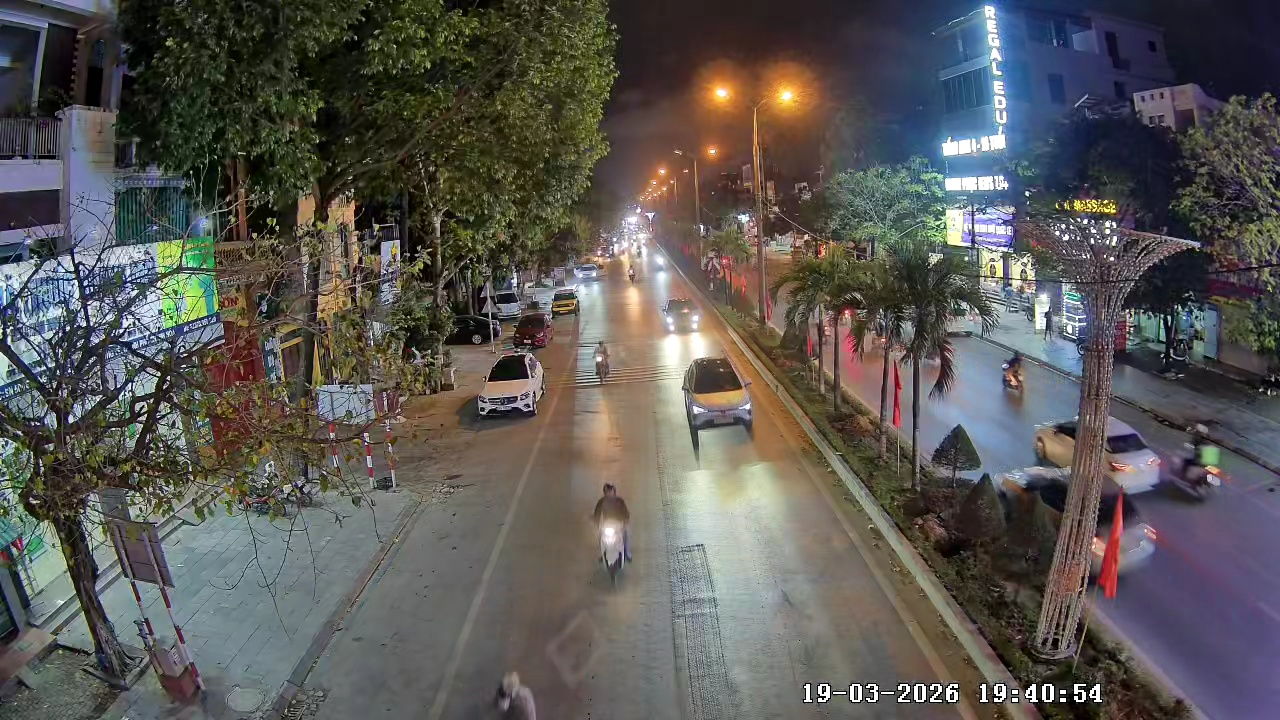car: (681, 353, 757, 439), (476, 350, 547, 418), (659, 296, 707, 336), (512, 308, 551, 349), (551, 284, 582, 317)
motorbike: (590, 479, 636, 589), (593, 339, 612, 385)
